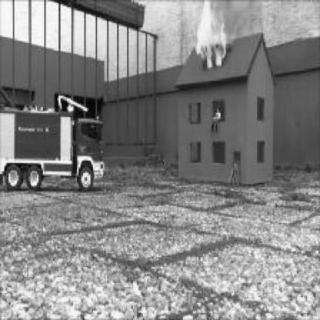Fire: (191, 2, 231, 66)
